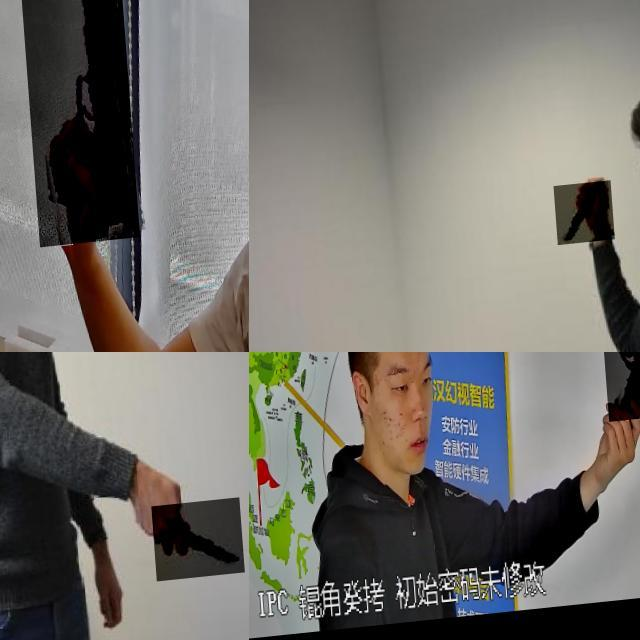-: (147, 507, 239, 589), (550, 188, 610, 252)
gun-knife-thesis - v11 Yolov5 augmented: (19, 0, 134, 251), (593, 352, 640, 430)
